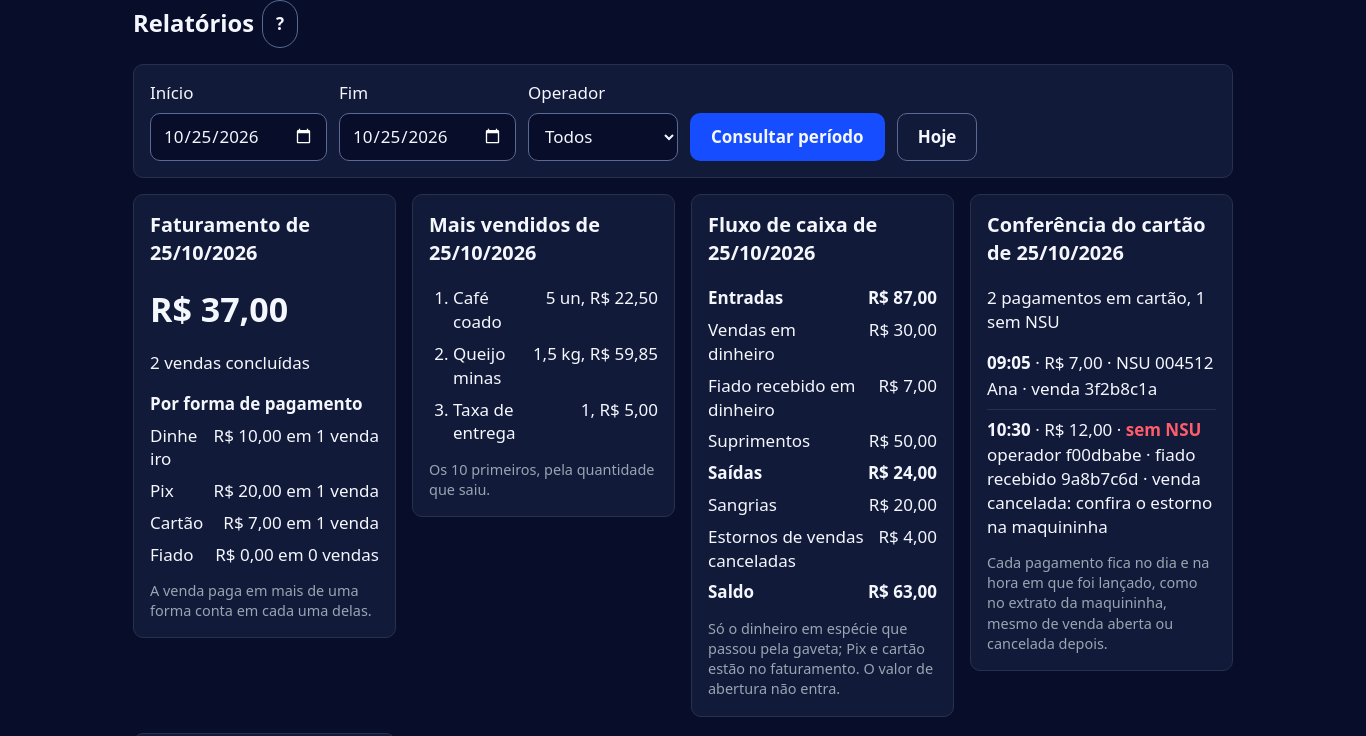
Test case: relatórios na tela › o operador escolhido filtra faturamento e ranking, não o fluxo, e o inativo aparece marcado
Select "Beatriz" in the dropdown labelled "Operador". click: (603, 137)
box: [528, 113, 678, 161]
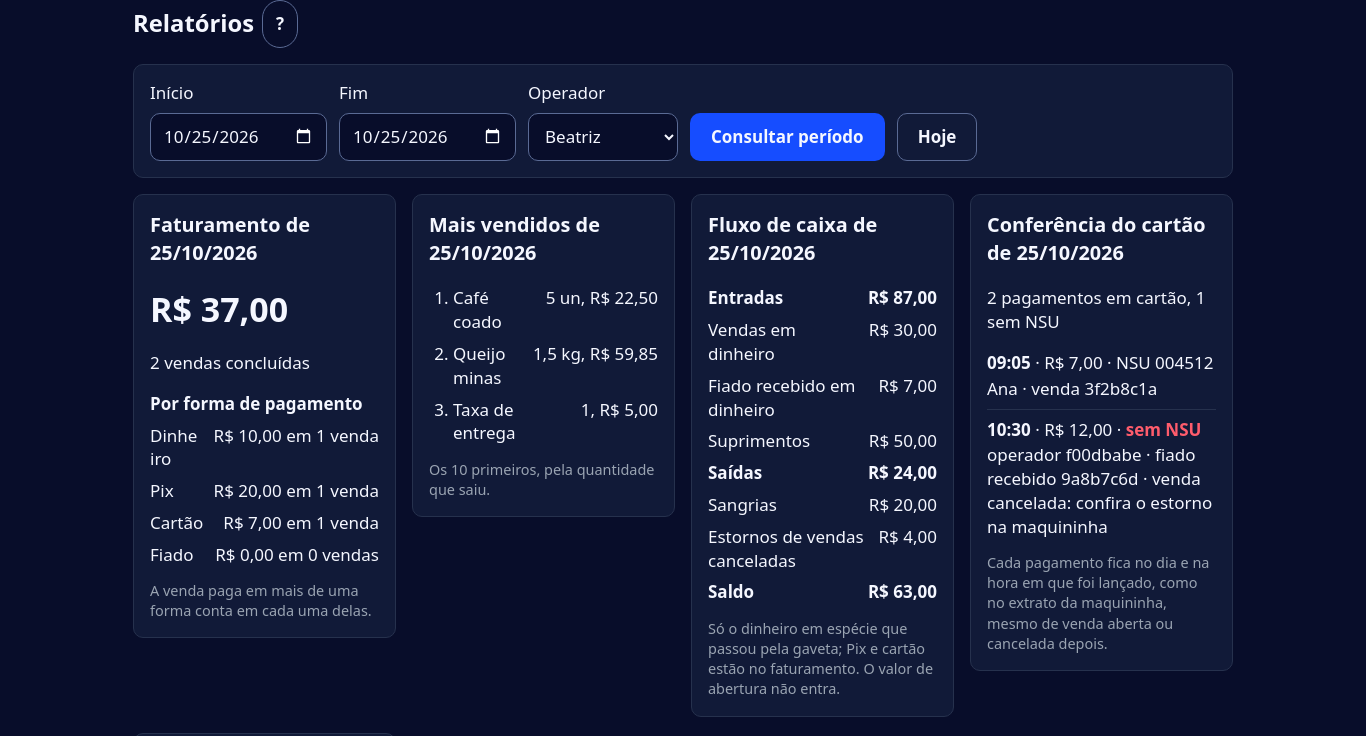
Click the button "Consultar período". click: click(787, 137)
box: [690, 113, 885, 161]
(page scrolled)
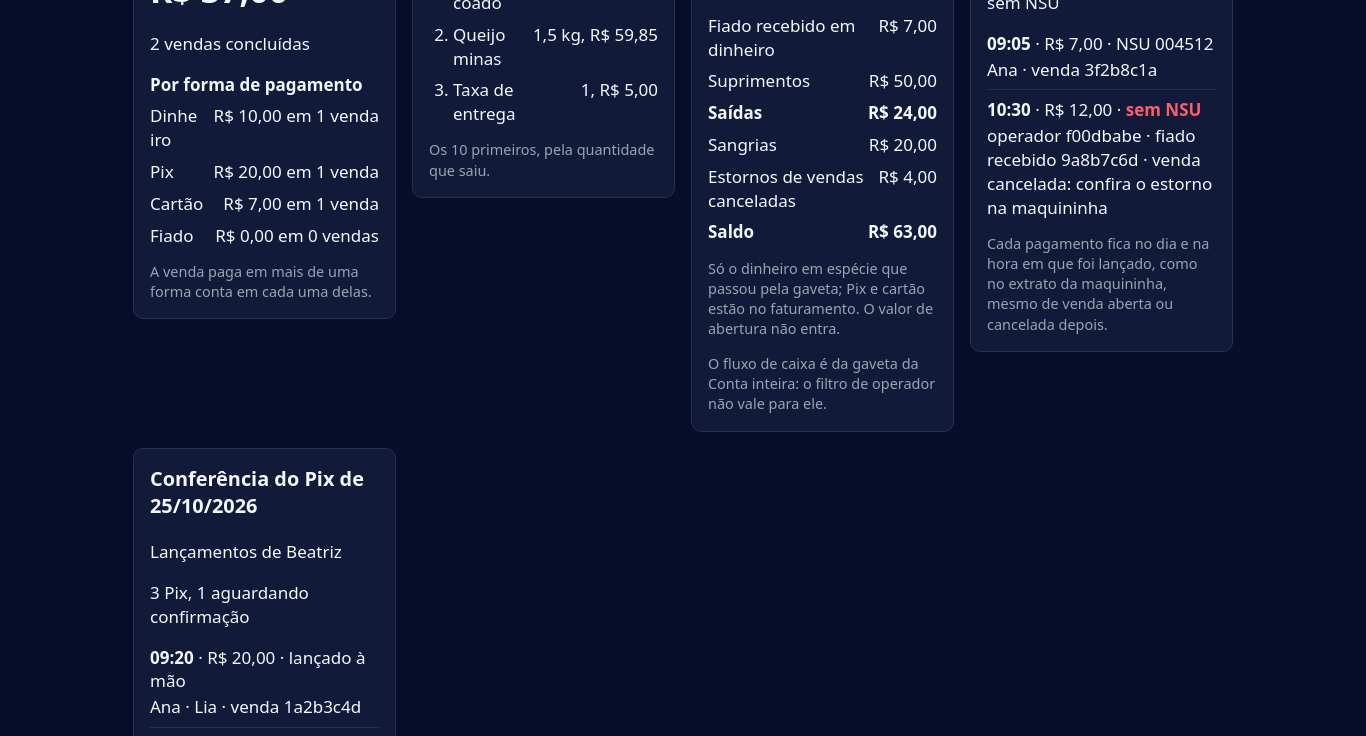
Result: the text "Lançamentos de Beatriz" is shown 2 times
